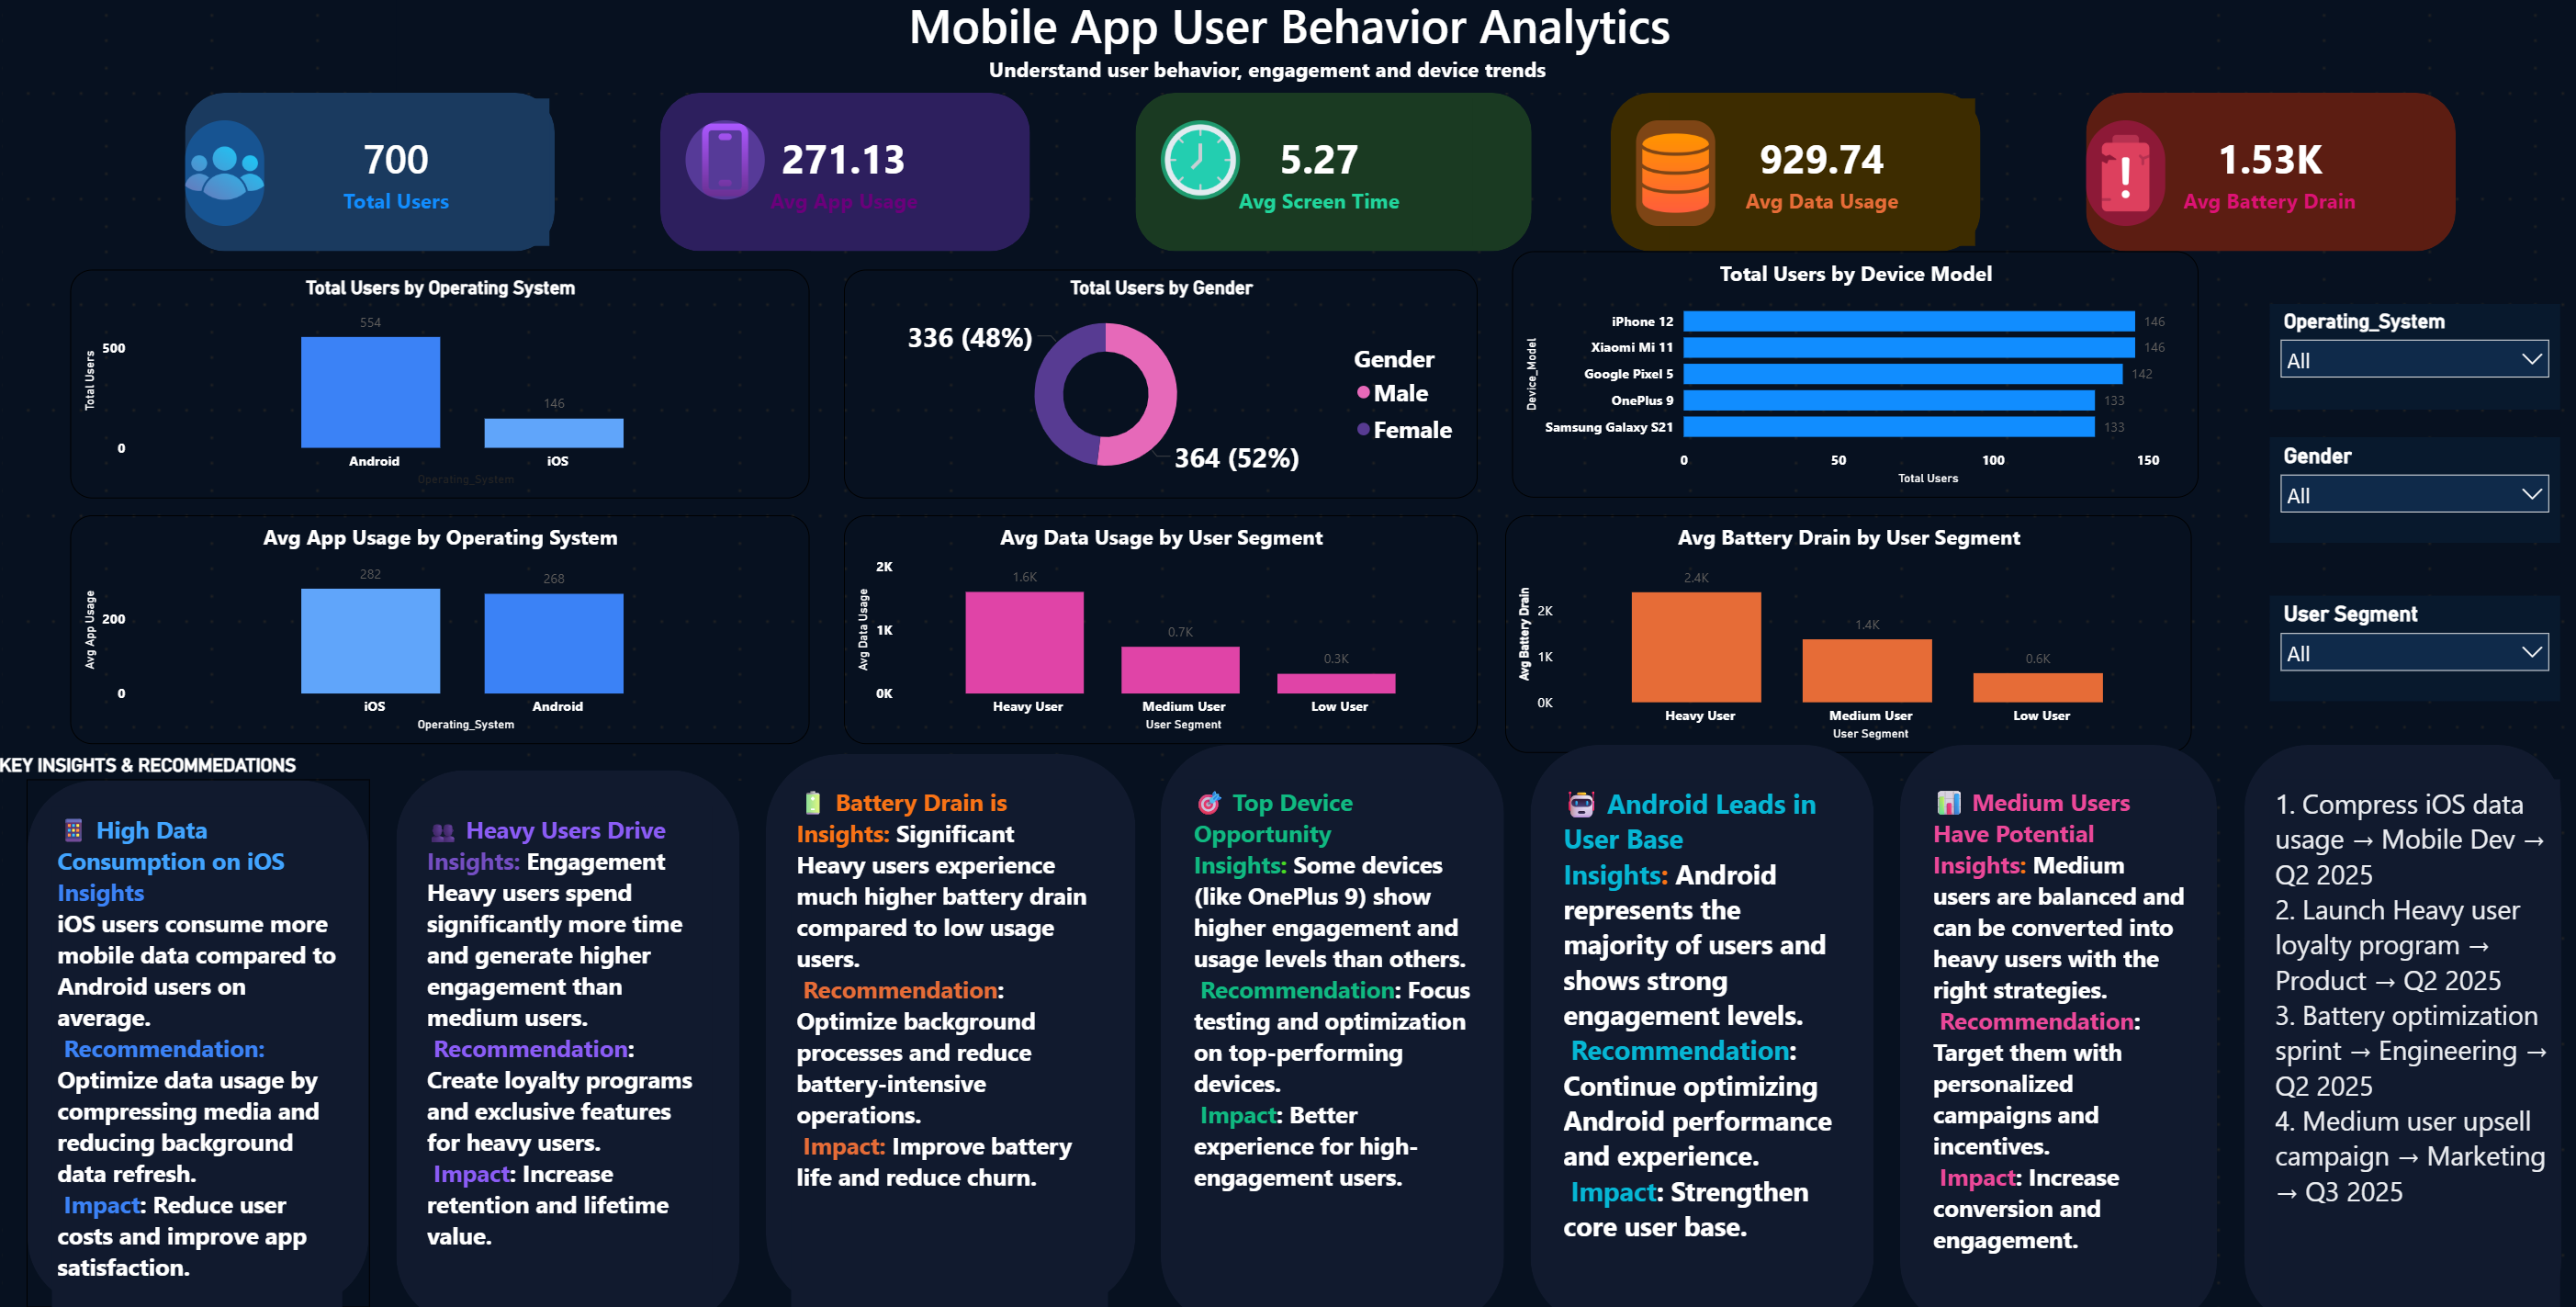

The dashboard page shown, as its layout file describes it:
{"tool":"powerbi","page":{"name":"Page 1","canvas":[2348,1216],"ordinal":0},"visuals":[{"type":"textbox","box":[360,0,1584,96],"z":0},{"type":"shape","box":[168,96,336,144],"z":1000},{"type":"shape","box":[600,96,336,144],"z":2000},{"type":"shape","box":[1032,96,360,144],"z":3000},{"type":"shape","box":[1464,96,336,144],"z":4000},{"type":"shape","box":[1896,96,336,144],"z":5000},{"type":"cardVisual","fields":{"Data":["user_behavior_dataset.Total Users"]},"box":[216,96,288,144],"z":6000},{"type":"cardVisual","fields":{"Data":["user_behavior_dataset.Avg App Usage"]},"box":[624,96,288,144],"z":7000},{"type":"cardVisual","fields":{"Data":["user_behavior_dataset.Avg Screen Time"]},"box":[1056,96,288,144],"z":8000},{"type":"cardVisual","fields":{"Data":["user_behavior_dataset.Avg Data Usage"]},"box":[1512,96,288,144],"z":9000},{"type":"cardVisual","fields":{"Data":["user_behavior_dataset.Avg Battery Drain"]},"box":[1920,96,288,144],"z":10000},{"type":"image","box":[168,120,72,96],"z":11000},{"type":"image","box":[624,120,72,72],"z":12000},{"type":"image","box":[1896,120,72,96],"z":13000},{"type":"columnChart","title":"Total Users by Operating System","fields":{"Category":["user_behavior_dataset.Operating_System"],"Y":["user_behavior_dataset.Total Users"]},"box":[64,256,672,208],"z":14000},{"type":"donutChart","fields":{"Category":["user_behavior_dataset.Gender"],"Y":["user_behavior_dataset.Total Users"]},"box":[768,256,576,208],"z":15000},{"type":"barChart","title":"Total Users by Device Model","fields":{"Category":["user_behavior_dataset.Device_Model"],"Y":["user_behavior_dataset.Total Users"]},"box":[1376,240,624,224],"z":16000},{"type":"columnChart","title":"Avg App Usage by Operating System","fields":{"Category":["user_behavior_dataset.Operating_System"],"Y":["user_behavior_dataset.Avg App Usage"]},"box":[64,480,672,208],"z":17000},{"type":"columnChart","fields":{"Category":["user_behavior_dataset.User Segment"],"Y":["user_behavior_dataset.Avg Data Usage"]},"box":[768,480,576,208],"z":18000},{"type":"columnChart","fields":{"Category":["user_behavior_dataset.User Segment"],"Y":["user_behavior_dataset.Avg Battery Drain"]},"box":[1368,480,624,216],"z":19000},{"type":"slicer","fields":{"Values":["user_behavior_dataset.Operating_System"]},"box":[2064,288,264,96],"z":20000},{"type":"slicer","fields":{"Values":["user_behavior_dataset.Gender"]},"box":[2064,408,264,96],"z":21000},{"type":"slicer","fields":{"Values":["user_behavior_dataset.User Segment"]},"box":[2064,552,264,96],"z":22000},{"type":"image","box":[1488,120,72,96],"z":23000},{"type":"shape","title":"KEY INSIGHTS & RECOMMEDATIONS","box":[0,696,2016,504],"z":24000},{"type":"shape","box":[24,720,312,480],"z":25000},{"type":"shape","box":[360,712,312,504],"z":26000},{"type":"shape","box":[696,696,336,504],"z":27000},{"type":"shape","box":[1056,688,312,528],"z":28000},{"type":"shape","box":[1392,688,312,528],"z":29000},{"type":"shape","box":[1728,688,288,528],"z":30000},{"type":"textbox","box":[48,744,264,456],"z":31000},{"type":"textbox","box":[384,744,264,432],"z":32000},{"type":"textbox","box":[720,720,288,480],"z":33000},{"type":"textbox","box":[1080,720,264,456],"z":34000},{"type":"textbox","box":[1752,720,240,480],"z":35000},{"type":"textbox","box":[1416,720,264,480],"z":36000},{"type":"image","box":[1056,120,72,72],"z":37000},{"type":"shape","box":[2040,688,288,528],"z":38000},{"type":"textbox","box":[2064,720,264,480],"z":39000}]}

Visuals, with their boxes in screenshot pixels (x1, y1, x2, y2), scaled from the page's 2348x1216 canvas onto the 2576x1307 screenshot:
textbox: x1=395, y1=0, x2=2132, y2=103
shape: x1=185, y1=103, x2=553, y2=258
shape: x1=658, y1=103, x2=1027, y2=258
shape: x1=1132, y1=103, x2=1527, y2=258
shape: x1=1606, y1=103, x2=1974, y2=258
shape: x1=2080, y1=103, x2=2448, y2=258
cardVisual - user_behavior_dataset.Total Users: x1=237, y1=103, x2=553, y2=258
cardVisual - user_behavior_dataset.Avg App Usage: x1=684, y1=103, x2=1001, y2=258
cardVisual - user_behavior_dataset.Avg Screen Time: x1=1159, y1=103, x2=1475, y2=258
cardVisual - user_behavior_dataset.Avg Data Usage: x1=1659, y1=103, x2=1974, y2=258
cardVisual - user_behavior_dataset.Avg Battery Drain: x1=2107, y1=103, x2=2423, y2=258
image: x1=185, y1=129, x2=264, y2=232
image: x1=684, y1=129, x2=763, y2=207
image: x1=2080, y1=129, x2=2159, y2=232
"Total Users by Operating System" columnChart: x1=70, y1=276, x2=807, y2=499
donutChart - user_behavior_dataset.Gender x user_behavior_dataset.Total Users: x1=842, y1=276, x2=1475, y2=499
"Total Users by Device Model" barChart: x1=1510, y1=258, x2=2194, y2=499
"Avg App Usage by Operating System" columnChart: x1=70, y1=516, x2=807, y2=739
columnChart - user_behavior_dataset.User Segment x user_behavior_dataset.Avg Data Usage: x1=842, y1=516, x2=1475, y2=739
columnChart - user_behavior_dataset.User Segment x user_behavior_dataset.Avg Battery Drain: x1=1501, y1=516, x2=2186, y2=748
slicer - user_behavior_dataset.Operating_System: x1=2265, y1=310, x2=2554, y2=412
slicer - user_behavior_dataset.Gender: x1=2265, y1=438, x2=2554, y2=542
slicer - user_behavior_dataset.User Segment: x1=2265, y1=593, x2=2554, y2=696
image: x1=1633, y1=129, x2=1712, y2=232
"KEY INSIGHTS & RECOMMEDATIONS" shape: x1=0, y1=748, x2=2211, y2=1290
shape: x1=27, y1=774, x2=368, y2=1290
shape: x1=395, y1=765, x2=737, y2=1306
shape: x1=763, y1=748, x2=1132, y2=1290
shape: x1=1159, y1=739, x2=1501, y2=1306
shape: x1=1527, y1=739, x2=1870, y2=1306
shape: x1=1895, y1=739, x2=2211, y2=1306
textbox: x1=52, y1=800, x2=343, y2=1290
textbox: x1=422, y1=800, x2=711, y2=1264
textbox: x1=790, y1=774, x2=1106, y2=1290
textbox: x1=1185, y1=774, x2=1475, y2=1264
textbox: x1=1922, y1=774, x2=2186, y2=1290
textbox: x1=1554, y1=774, x2=1843, y2=1290
image: x1=1159, y1=129, x2=1238, y2=207
shape: x1=2238, y1=739, x2=2554, y2=1306
textbox: x1=2265, y1=774, x2=2554, y2=1290
